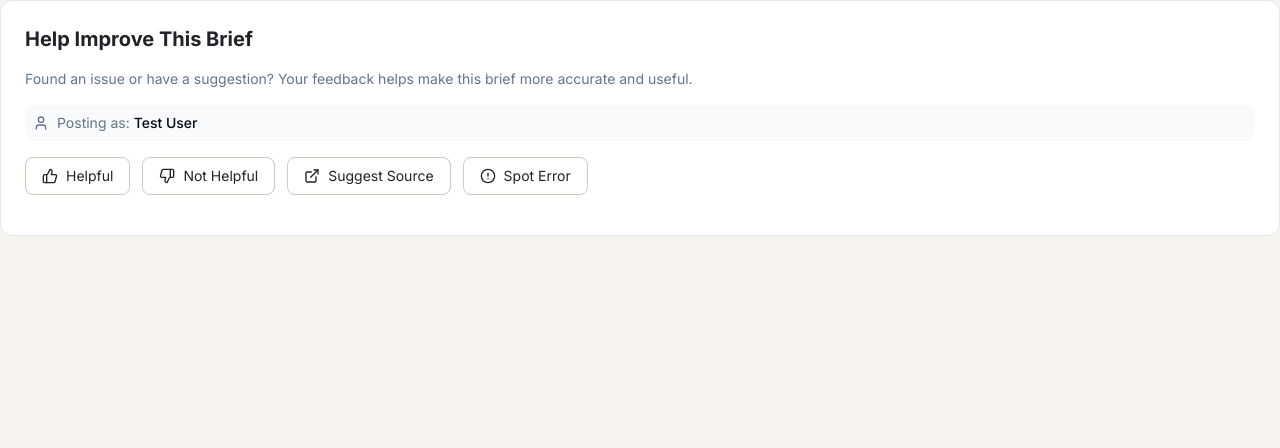
Test: FeedbackForm › Suggest Source Form › should close content form when Cancel is clicked
The image size is (1280, 448).
Step 1. Click the button "Suggest Source" → (369,176), box [287,157,451,195]
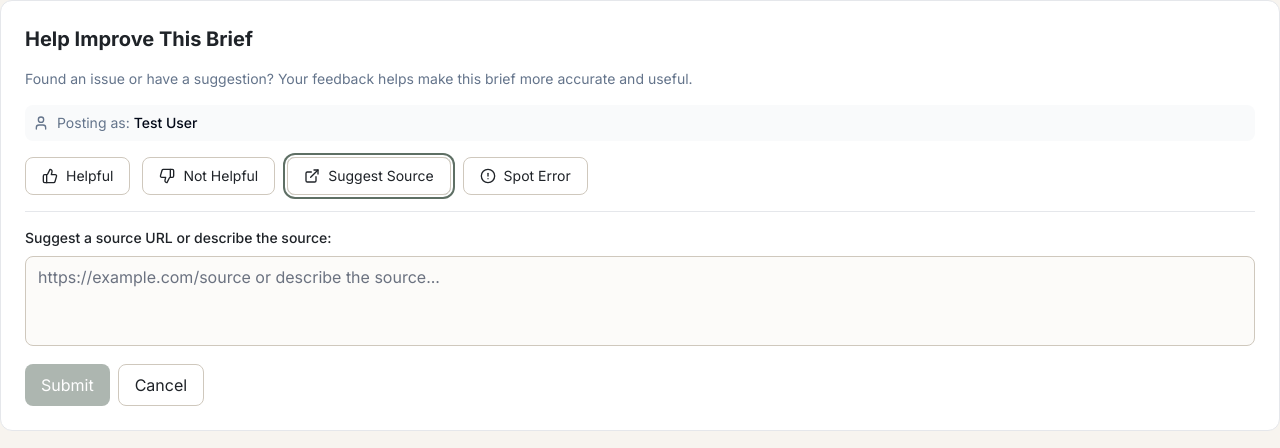
Step 2. Click the button "Cancel" → (161,385), box [118,364,204,406]
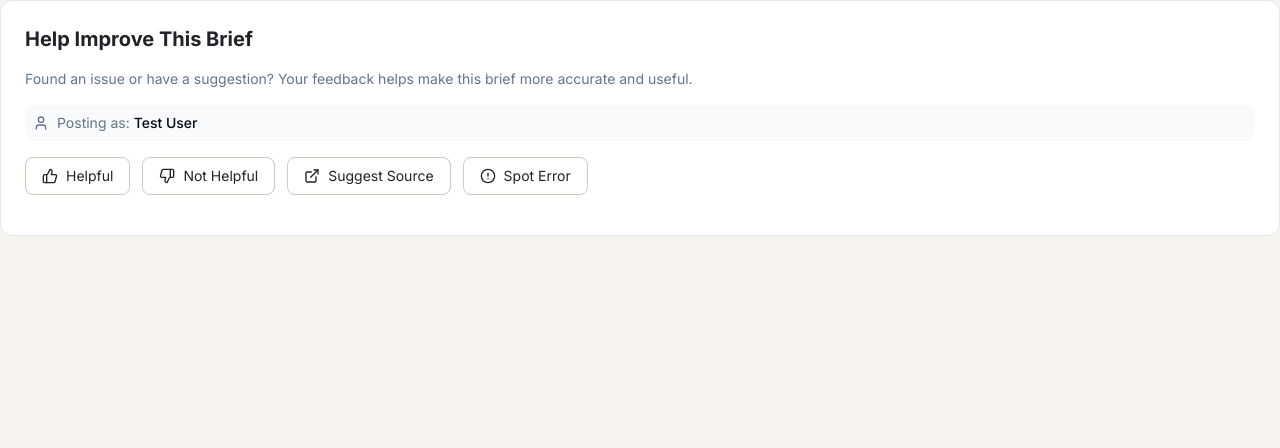
Result: the text "Suggest a source URL or describe the source:" is gone
